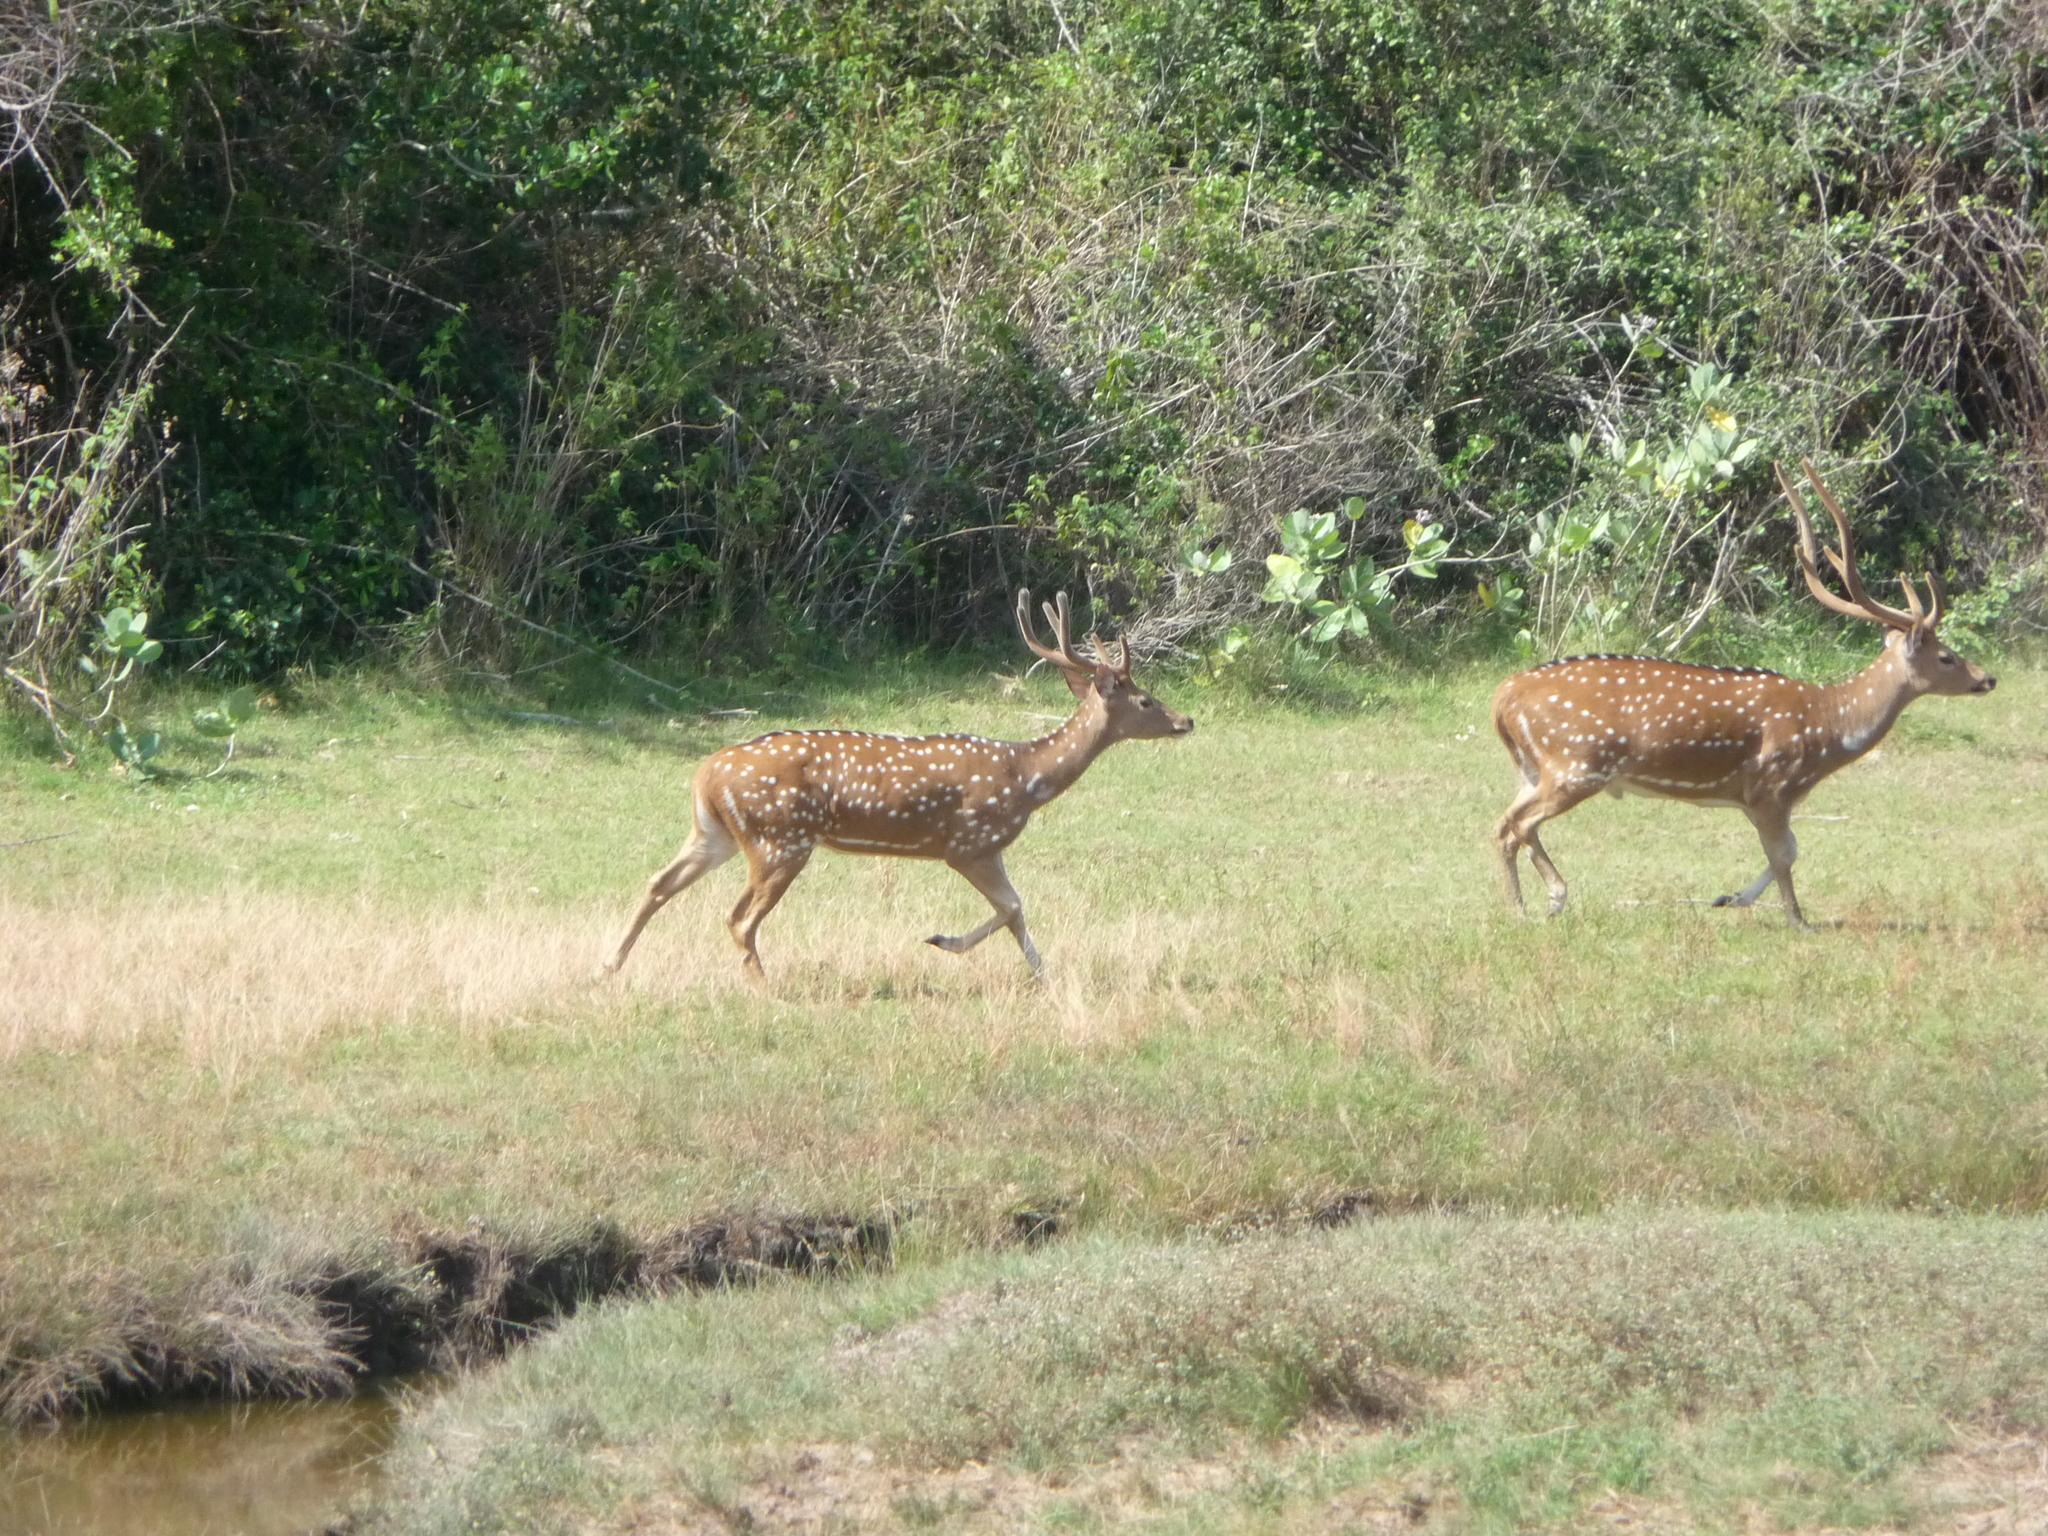Deer: (1492, 458, 1996, 925), (605, 591, 1192, 975)
